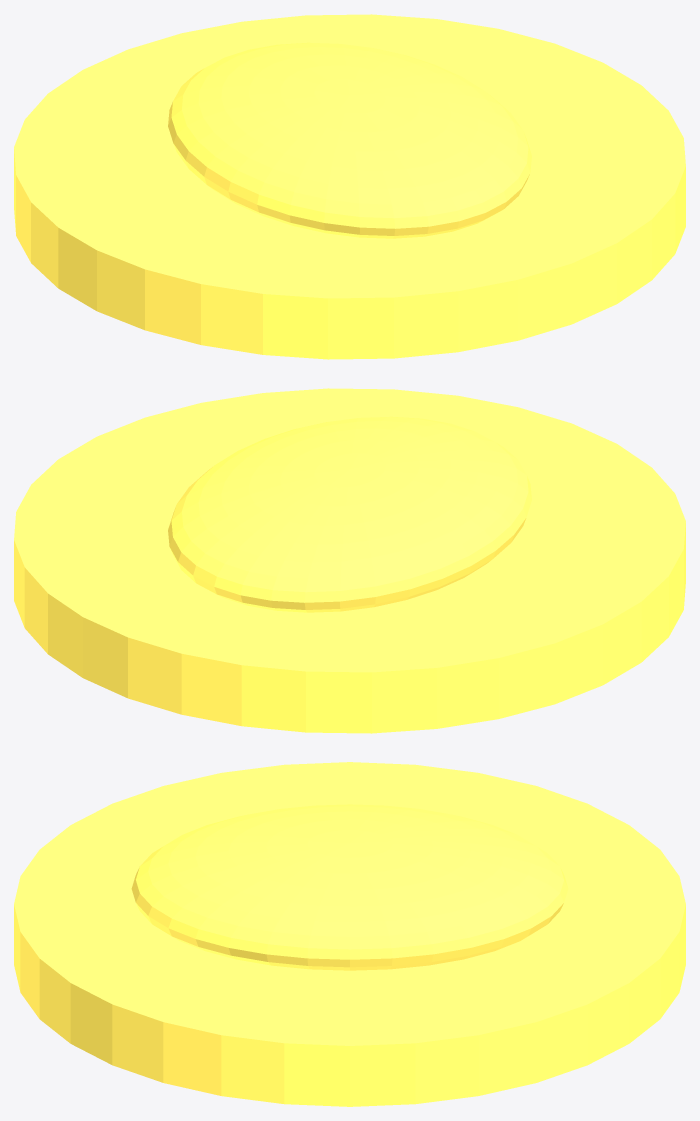
The model's file is CornCoin.glb.
The picture shows the model from 3 angles, top to bottom: view 1: azimuth 30°, elevation 25°; view 2: azimuth 150°, elevation 25°; view 3: azimuth 270°, elevation 25°; orthographic projection.
Visible parts, largest first — view 1: CornCoin, CornCoin_Emboss; view 2: CornCoin, CornCoin_Emboss; view 3: CornCoin, CornCoin_Emboss.
Part boxes in pixels (x1,y1,x2,y2): CornCoin: [14, 14, 685, 359]; CornCoin_Emboss: [168, 42, 531, 238]; CornCoin: [14, 388, 685, 733]; CornCoin_Emboss: [168, 416, 531, 612]; CornCoin: [14, 762, 685, 1106]; CornCoin_Emboss: [131, 804, 568, 970].
Bounding box in the file's own units: 0.4 × 0.08 × 0.4.
